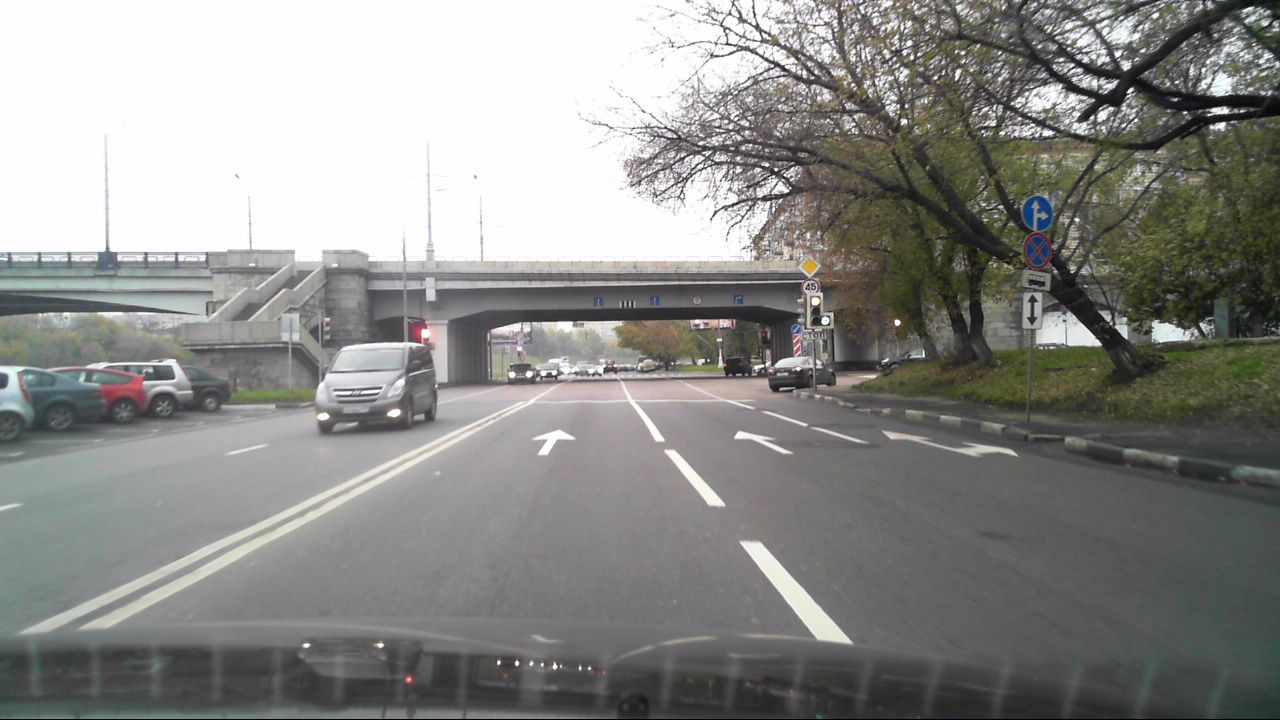No Parking: (1022, 231, 1054, 267)
